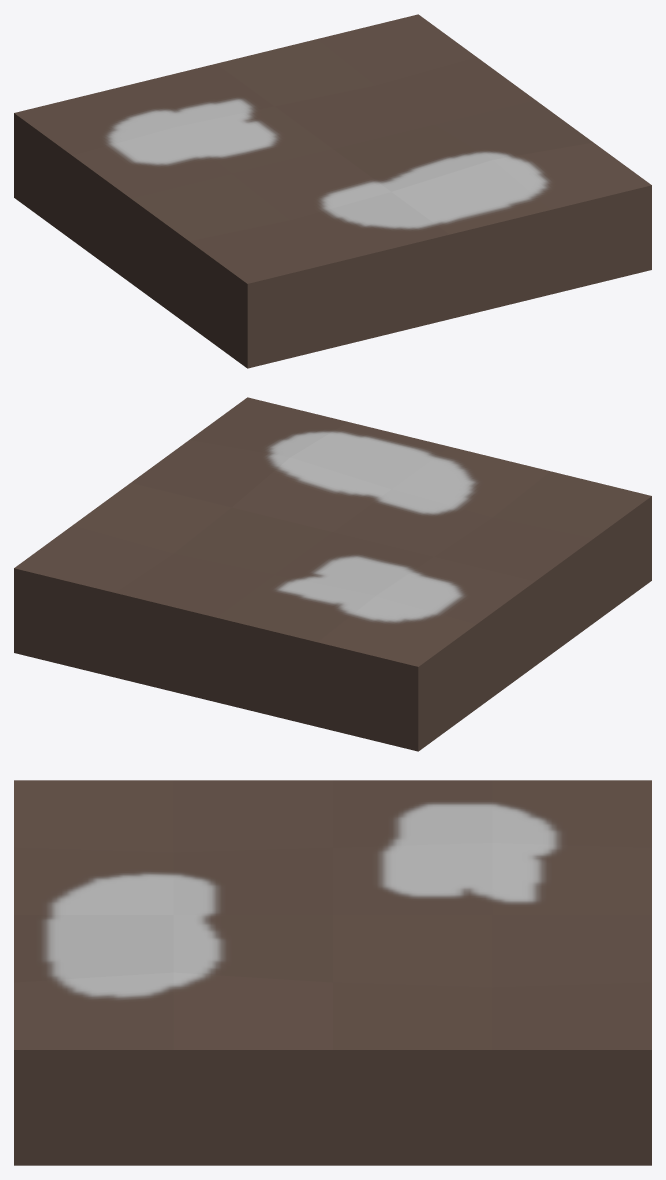
File: StoneTileB.fbx
3 renders of one model, top to bottom at view 1: azimuth 30°, elevation 25°; view 2: azimuth 150°, elevation 25°; view 3: azimuth 270°, elevation 25°, orthographic. The views are drawn at different scales.
Parts seen in each view (by area): view 1: Cube; view 2: Cube; view 3: Cube.
Part boxes in pixels (bbox=[...]): Cube: bbox=[14, 14, 651, 368]; Cube: bbox=[14, 397, 651, 751]; Cube: bbox=[14, 780, 651, 1165].
Size of the model in its own units: 1499 by 326 by 1499.
